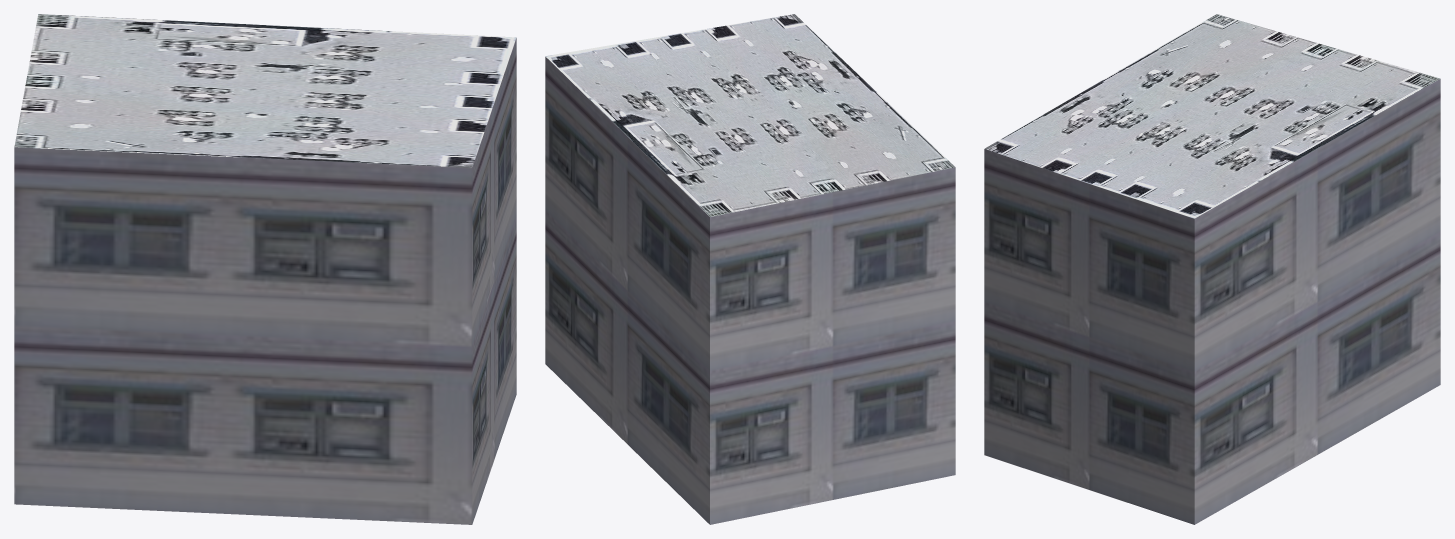
File: ResTex__336.fbx
The picture shows the model from 3 angles, left to right: view 1: azimuth 30°, elevation 25°; view 2: azimuth 150°, elevation 25°; view 3: azimuth 270°, elevation 25°; orthographic projection. The views are drawn at different scales.
Visible parts, largest first — view 1: CityEngineMaterial_1_m, CityEngineMaterial_8_m; view 2: CityEngineMaterial_1_m, CityEngineMaterial_8_m; view 3: CityEngineMaterial_1_m, CityEngineMaterial_8_m.
Part boxes in pixels (x1,y1,x2,y2): CityEngineMaterial_1_m: (14, 38, 516, 524); CityEngineMaterial_8_m: (14, 14, 516, 167); CityEngineMaterial_1_m: (545, 57, 955, 524); CityEngineMaterial_8_m: (545, 14, 955, 216); CityEngineMaterial_1_m: (984, 79, 1440, 524); CityEngineMaterial_8_m: (984, 14, 1440, 218).
Size of the model in its own units: 8.6 by 6 by 8.11.
Materials: 2 (2 with a texture image).
